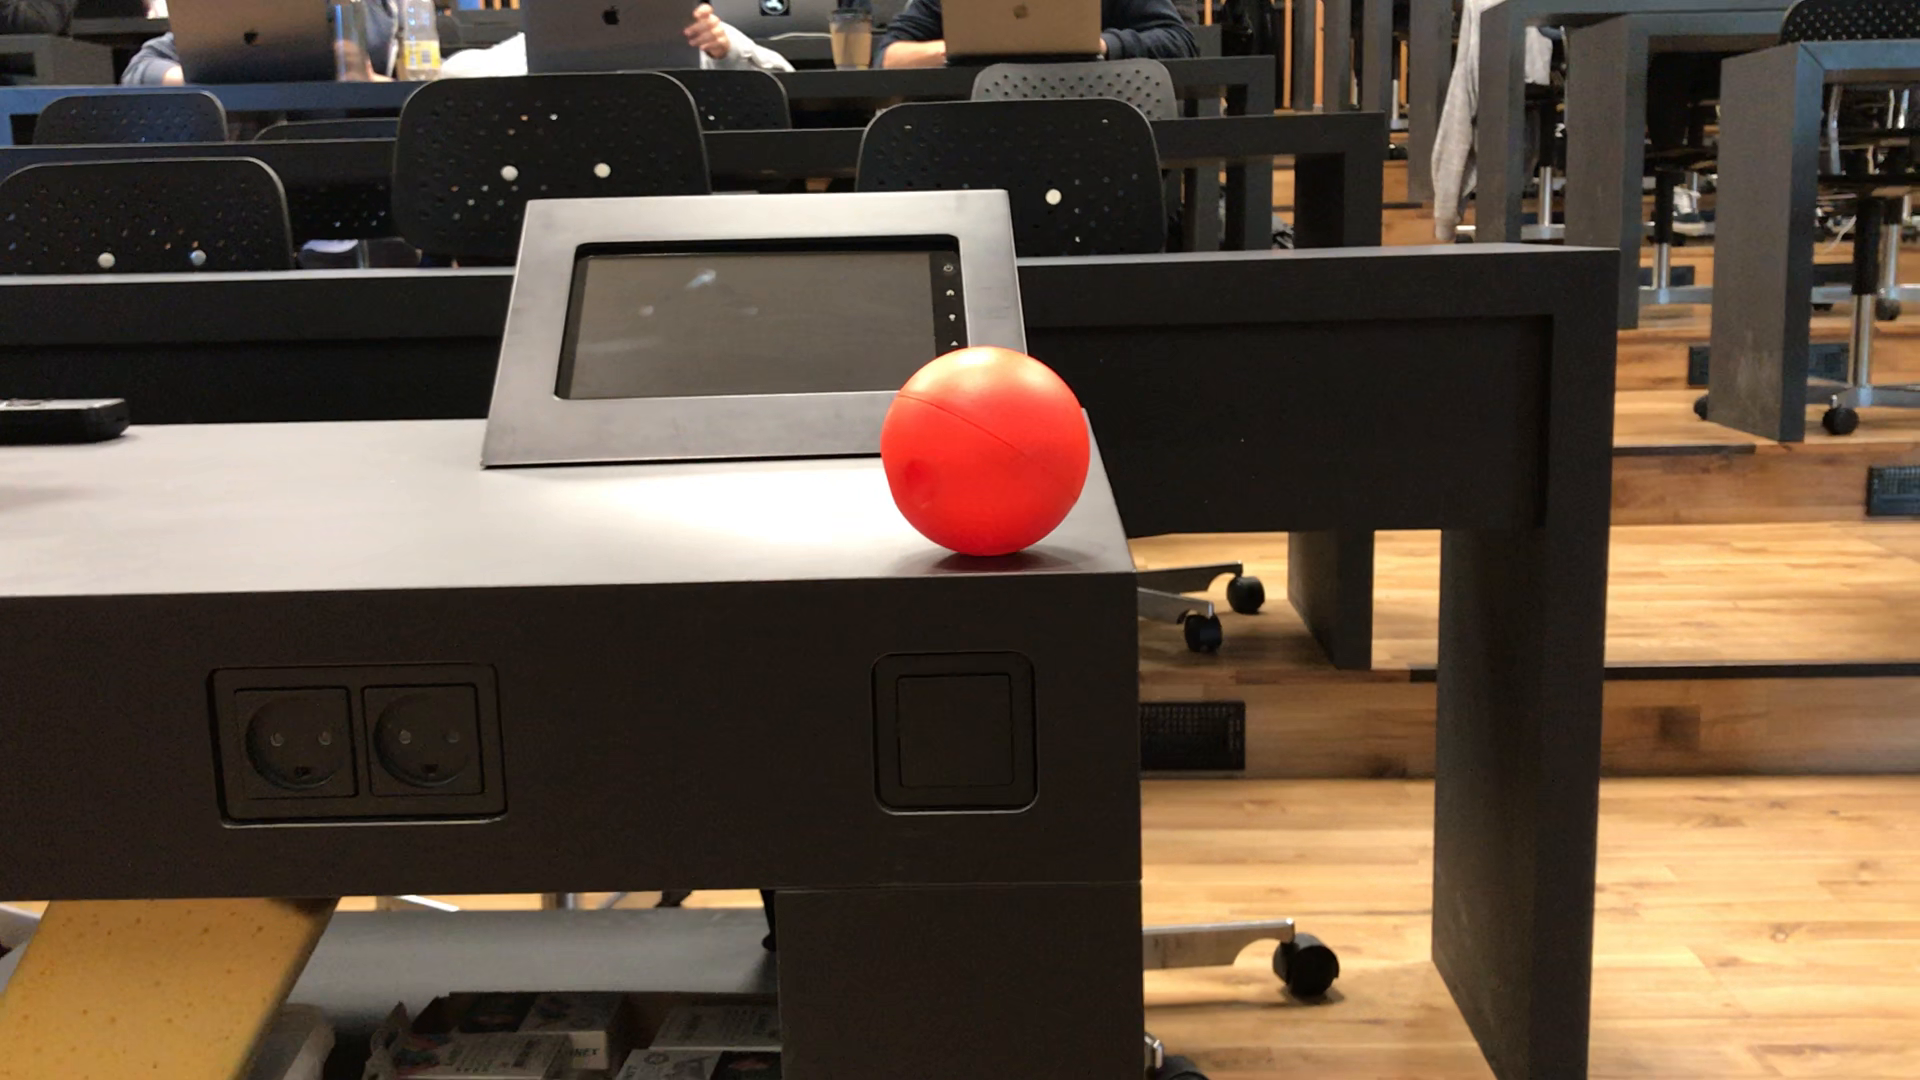Ball: (877, 345, 1096, 550)
